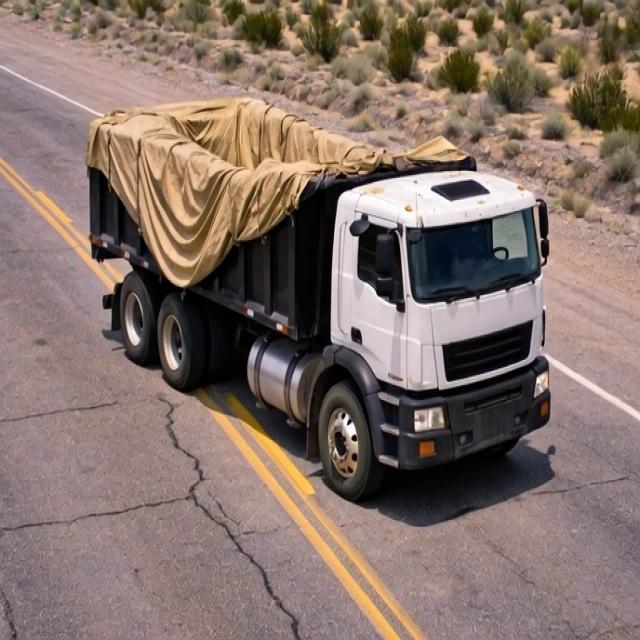trailer: (81, 92, 503, 190)
truck: (73, 59, 559, 485)
